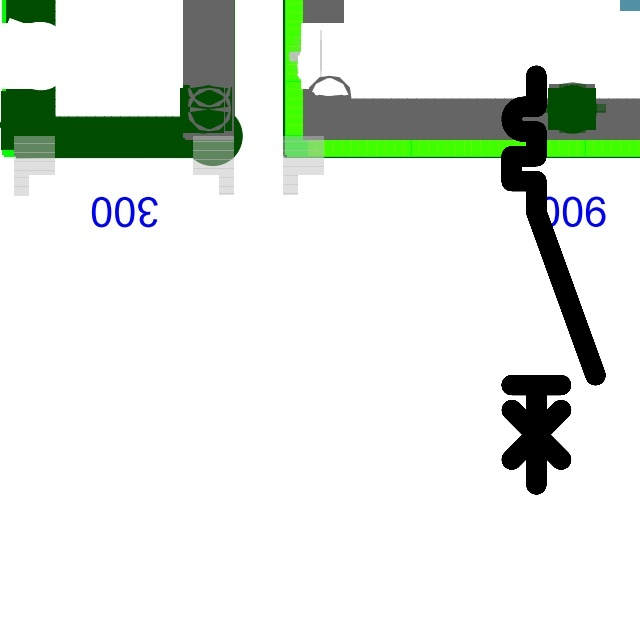interruptor_termomagnetico: (501, 65, 606, 495)
